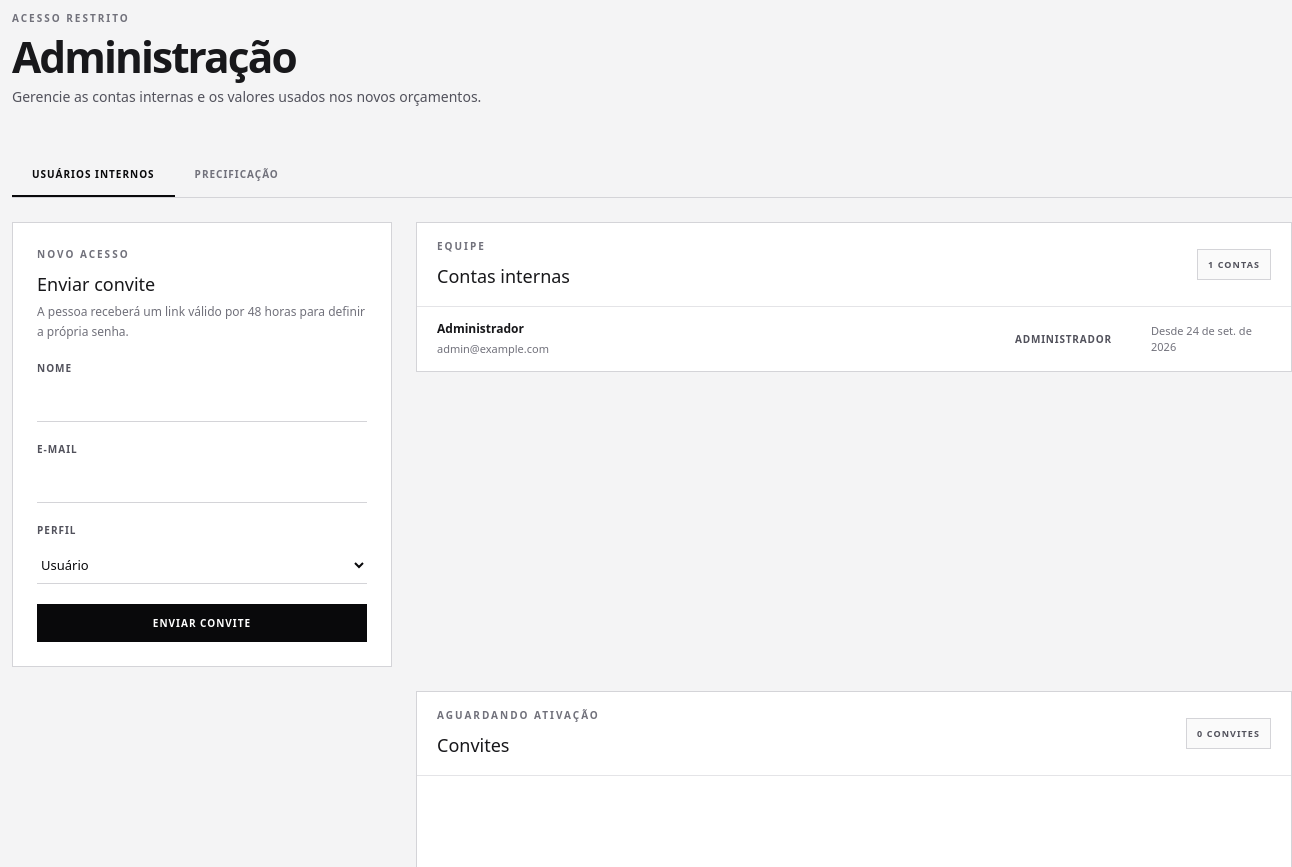
Test: AdministrationPage › envia convite sem solicitar senha e o exibe separadamente
Expected: the heading "Contas internas" is shown, [437,262,570,290]
In the field labelled "Nome": (202, 403) [37,384,367,422], type "Maria Silva"
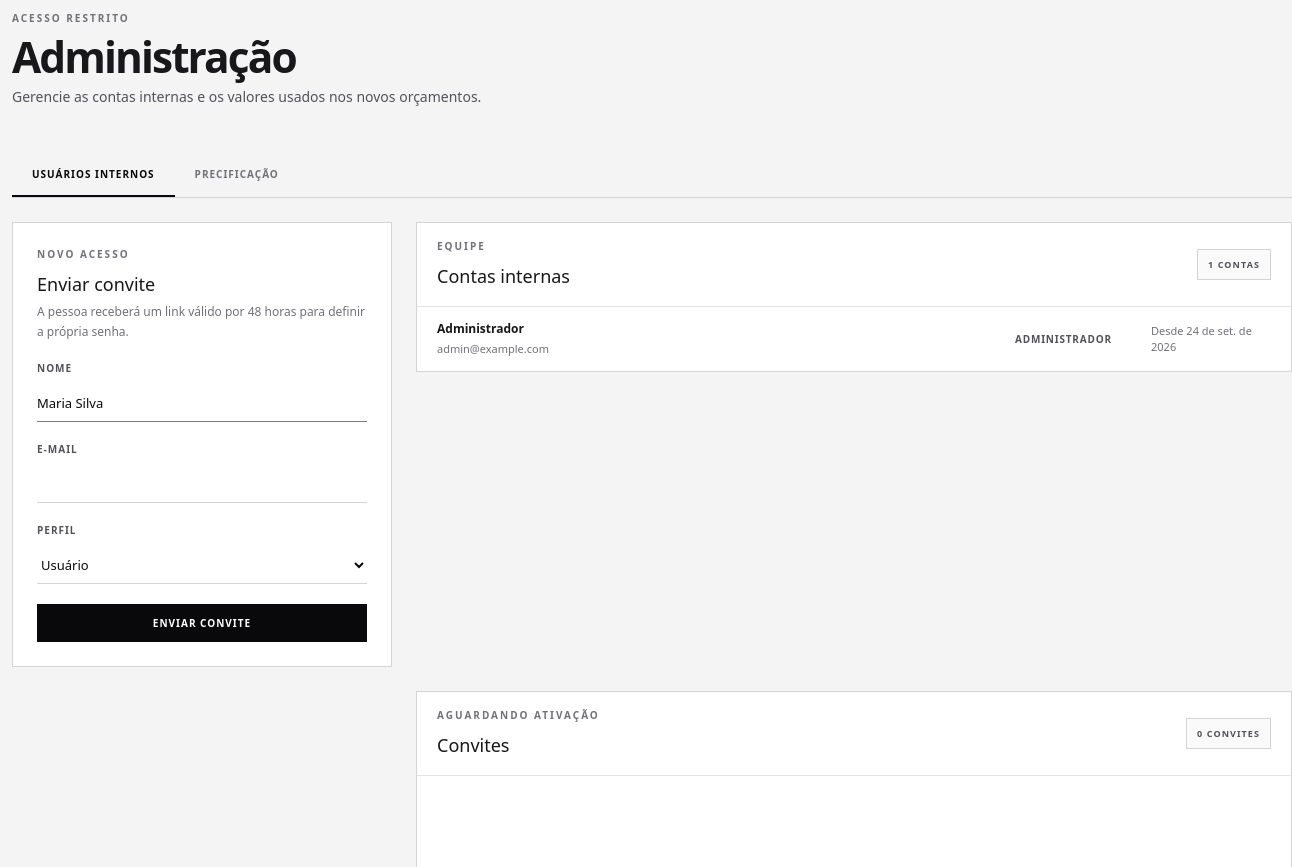
In the field labelled "E-mail": (202, 484) [37,465,367,503], type "maria@example.com"
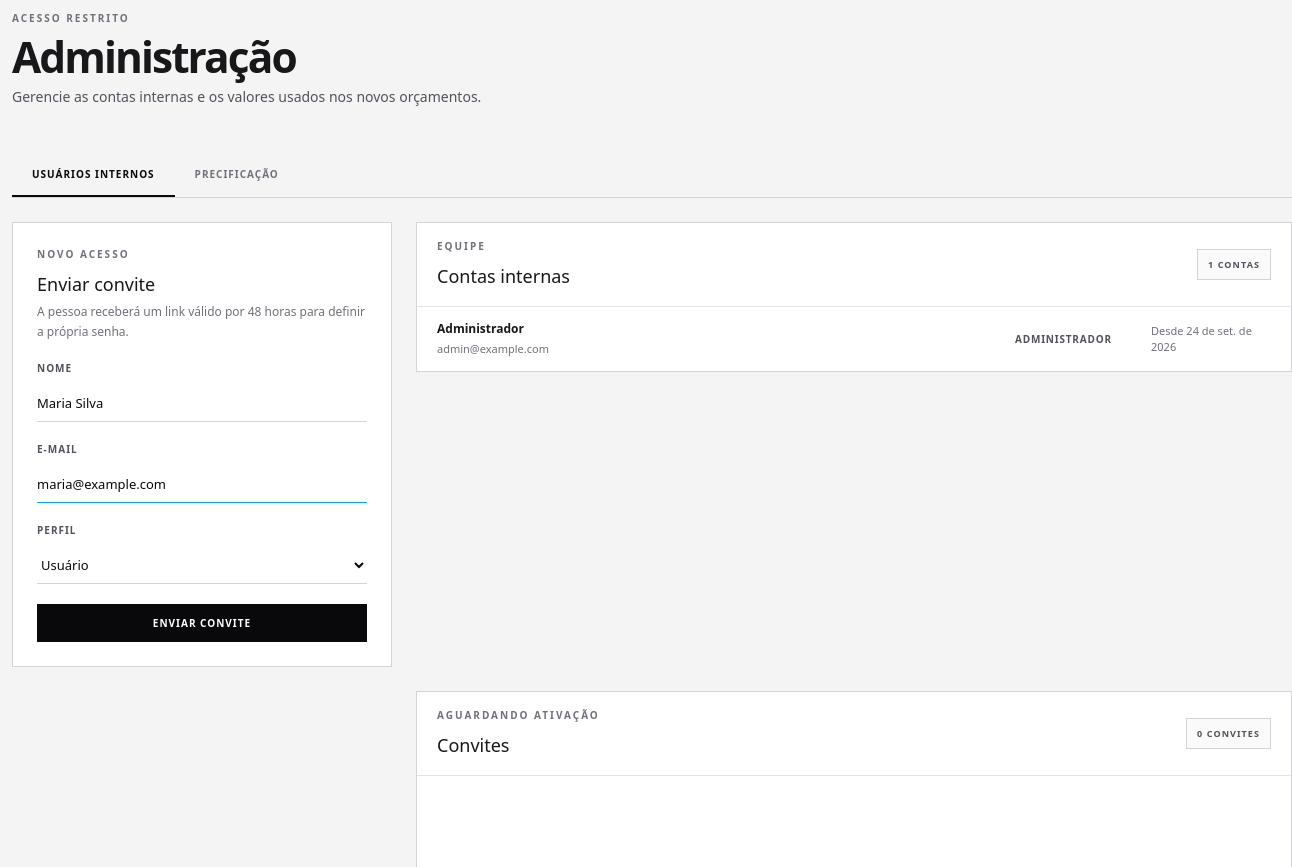
Click the button "Enviar convite": (202, 623) [37,604,367,642]
(page scrolled)
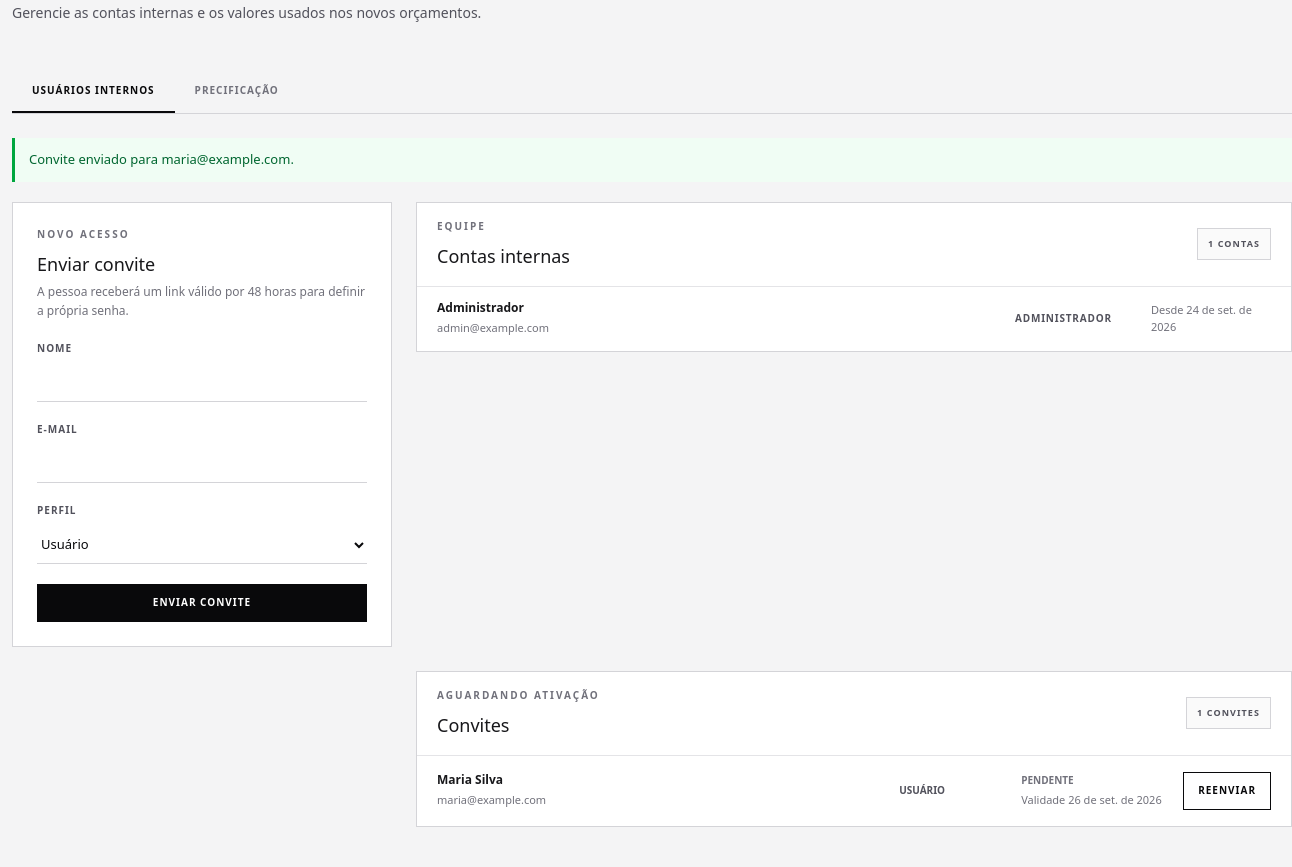
Expected: the text "Maria Silva" is shown, [437,771,503,788]
